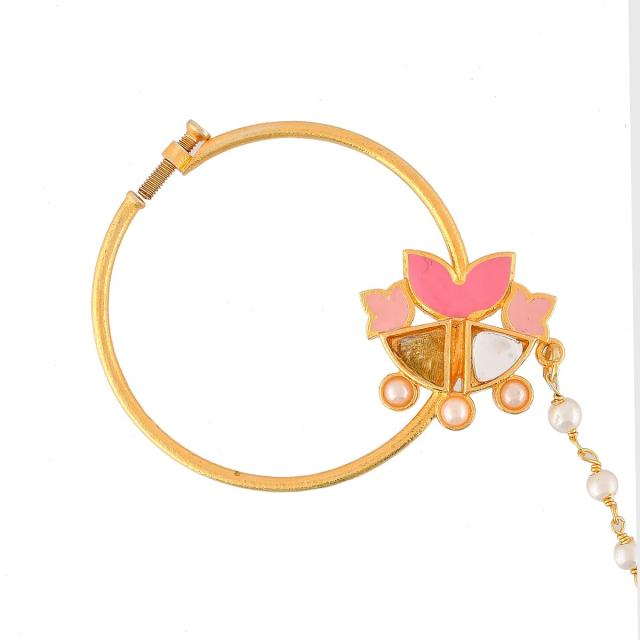missing gem: (386, 325, 446, 388)
